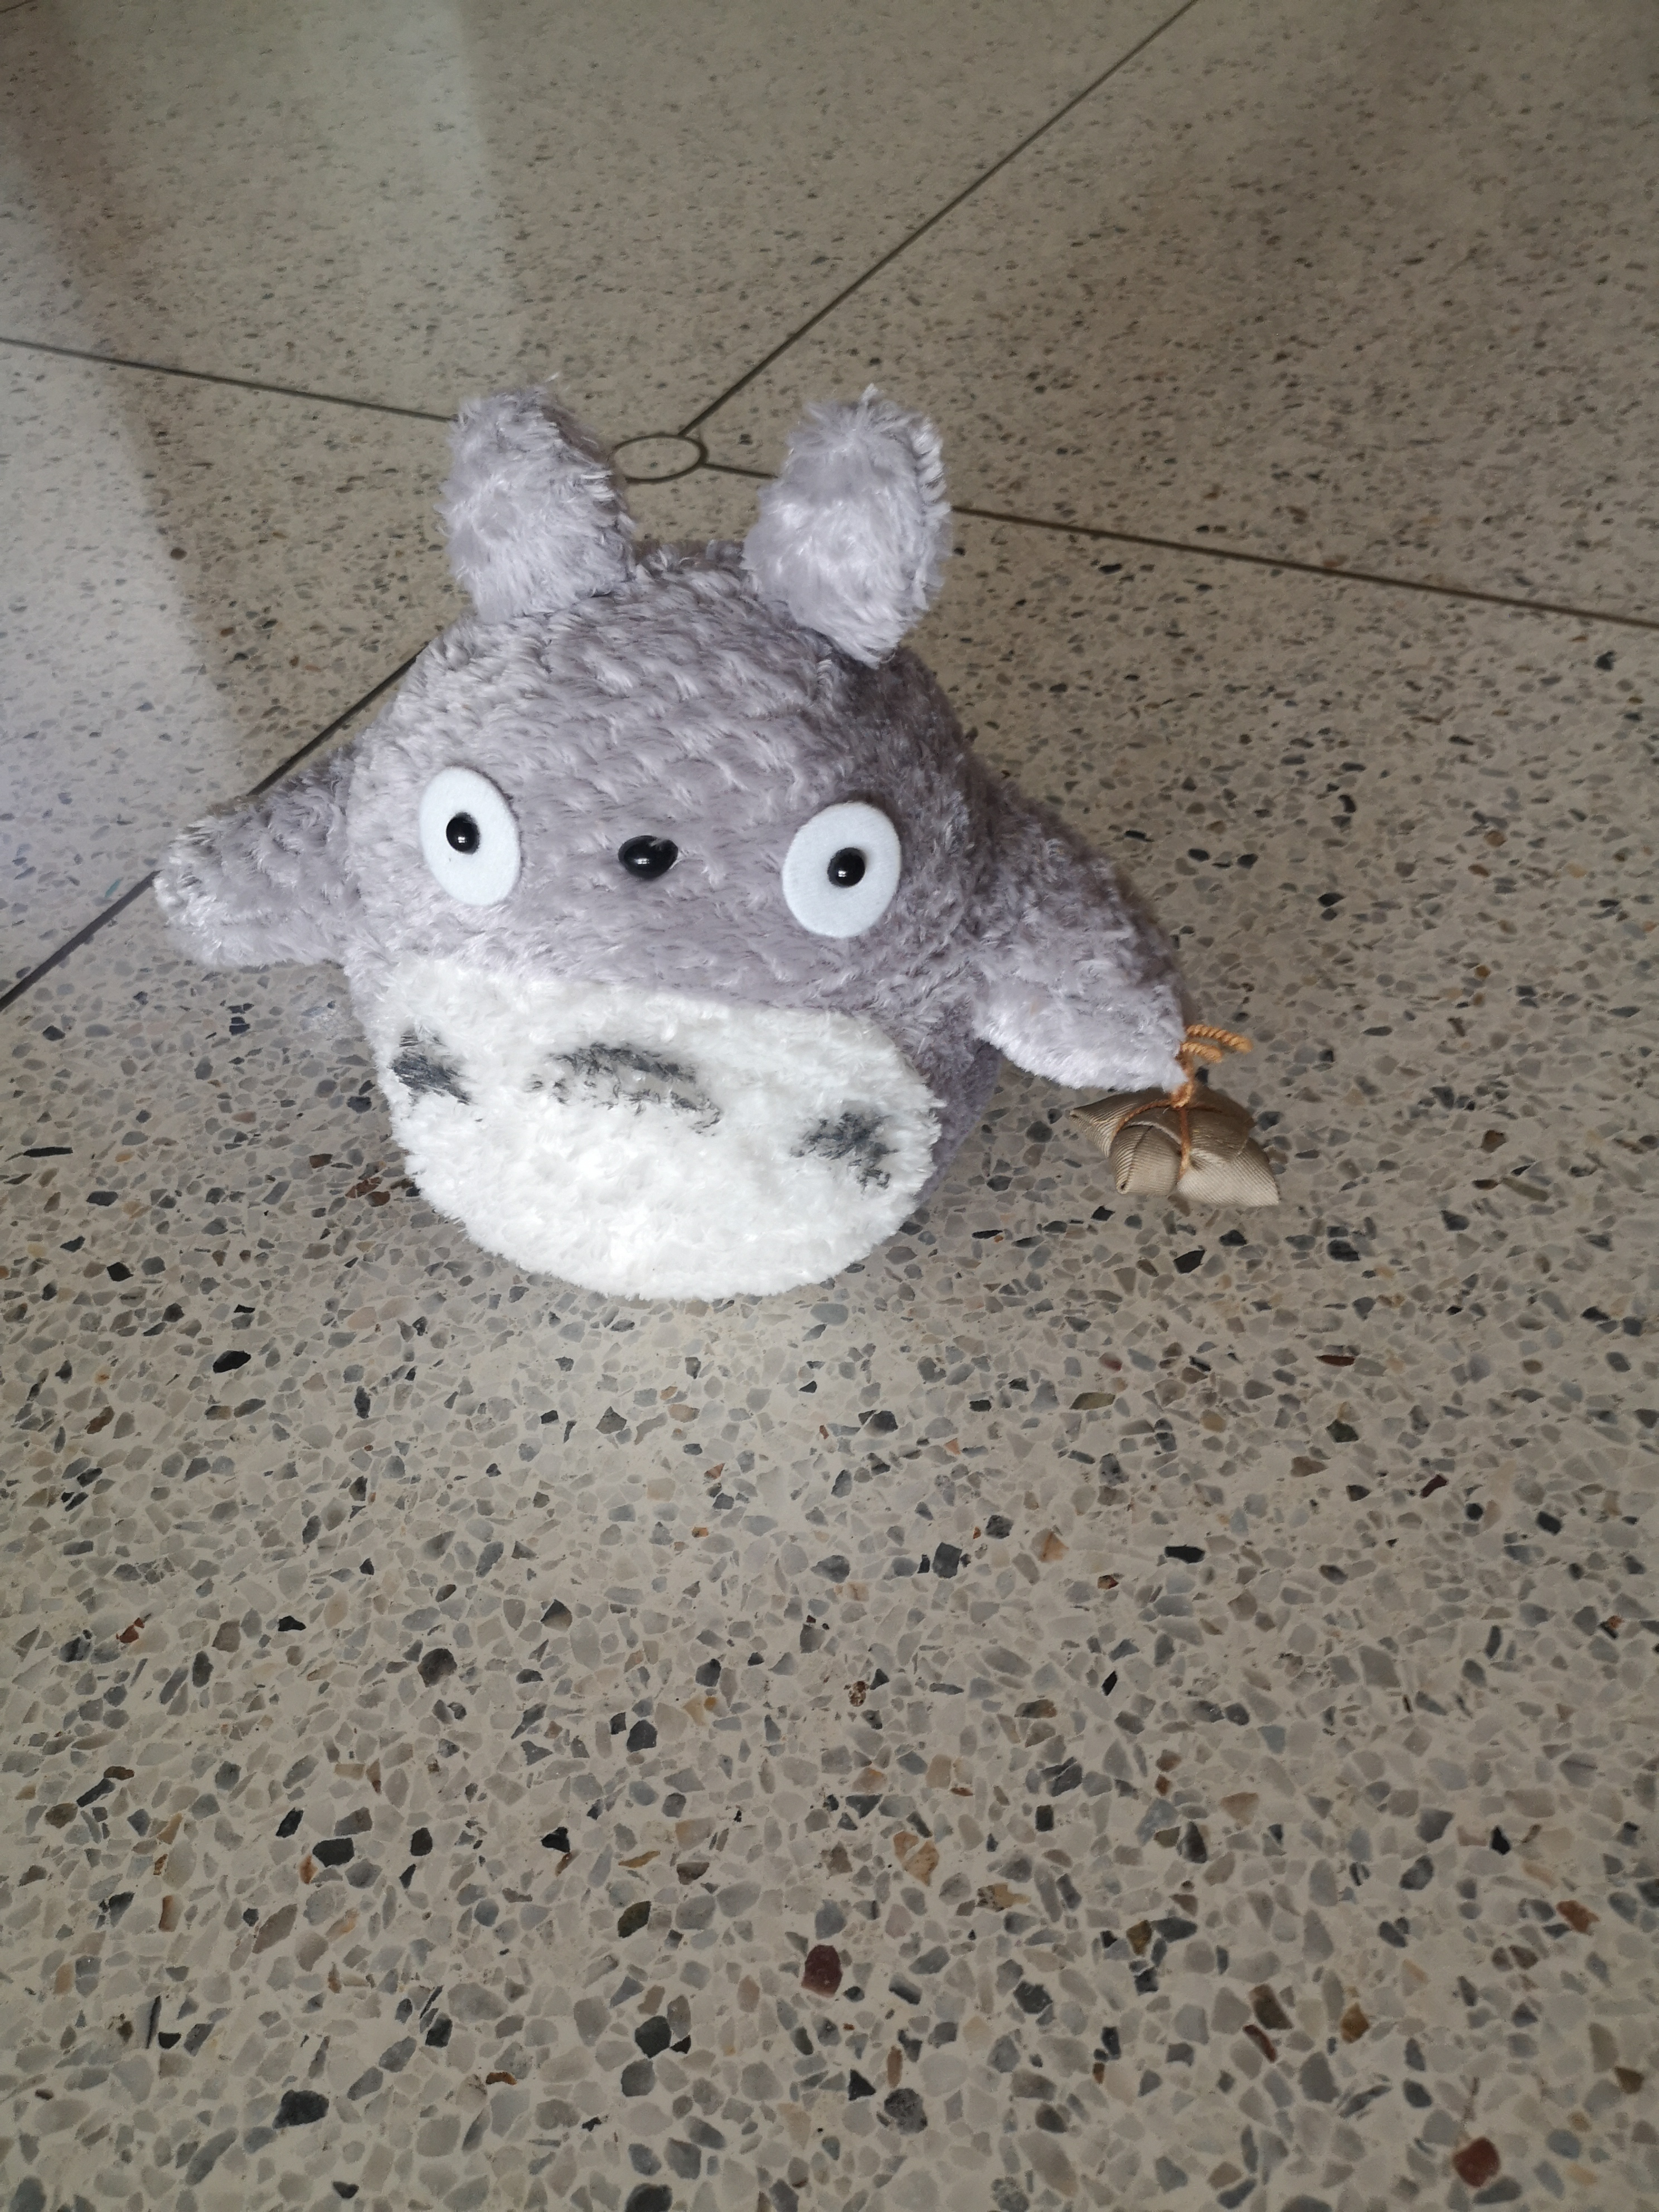totoro: (139, 385, 1305, 1322)
